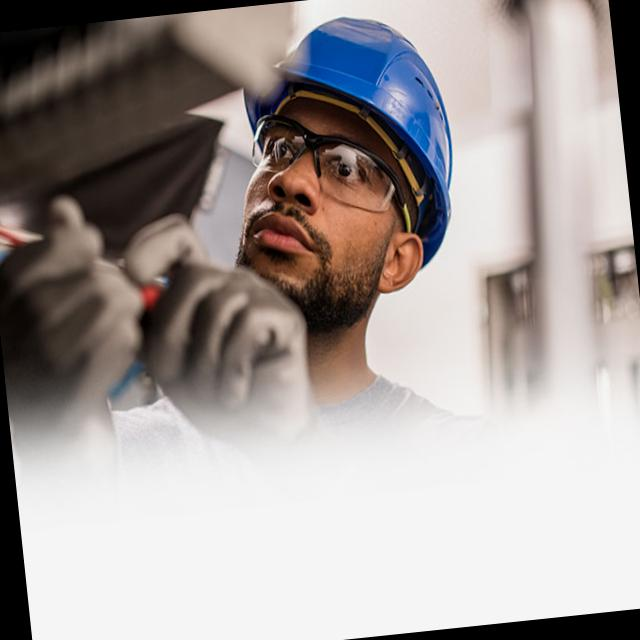goggles: (244, 97, 426, 252)
helmet: (235, 1, 468, 290)
